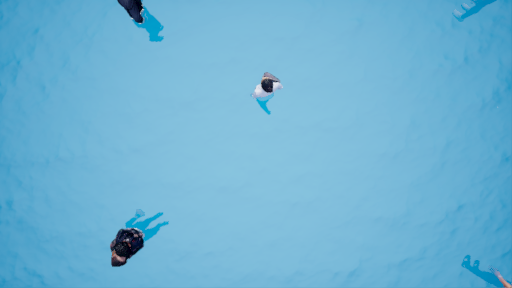person: (96, 208, 180, 270), (247, 70, 285, 116)
